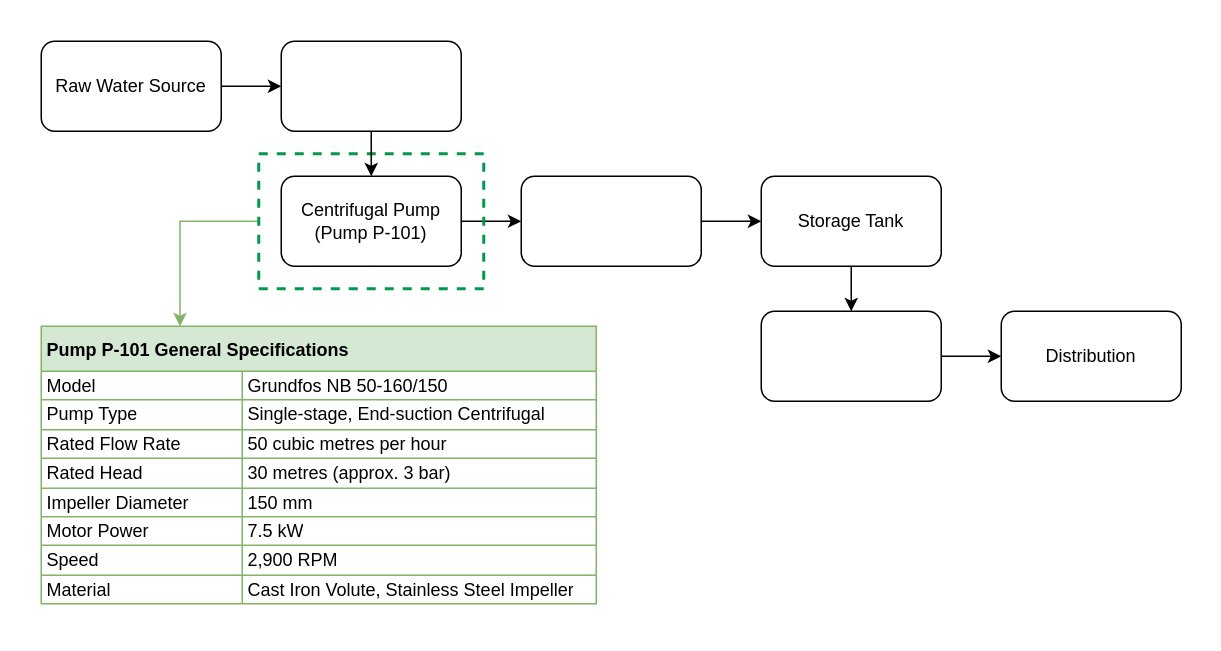
This 1221x651 diagram has some shape labels left out. Here are the shapes that lost their labels. From the top down, the centre of each, then its label:
[370,85]: Pretreatment Tank
[610,220]: Filter
[850,355]: Centrifugal Pump (Pump P-102)
